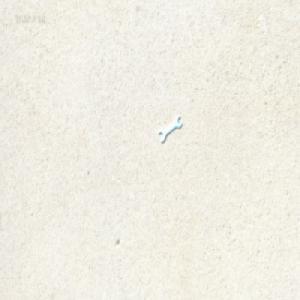Wrench: (158, 114, 180, 143)
